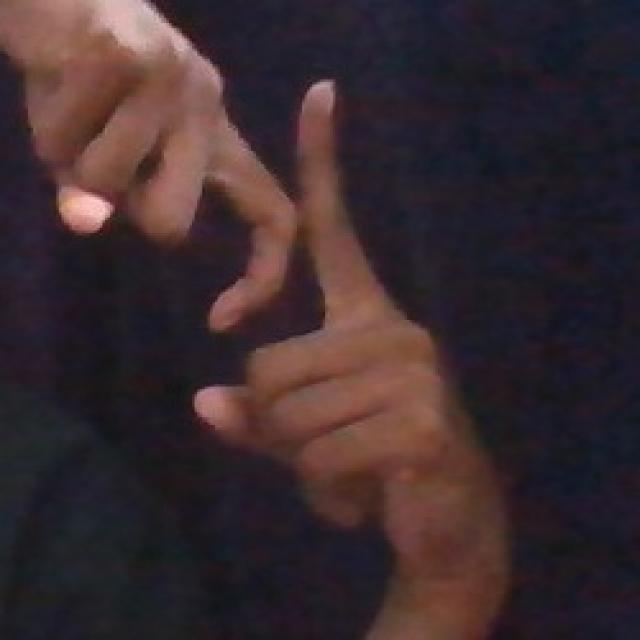Alphabet-K: (0, 1, 532, 640)
